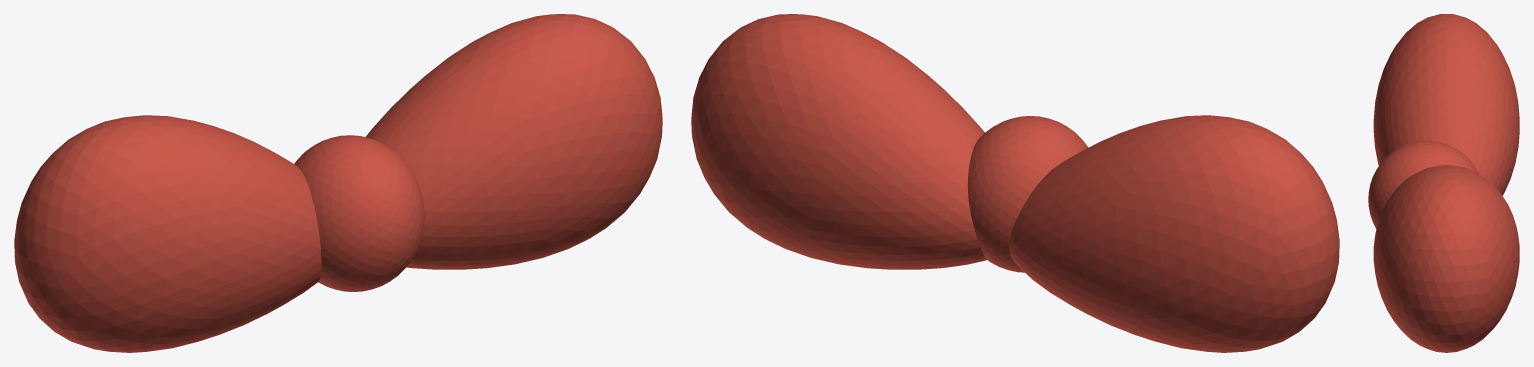
File: bow.glb
3 views of the same model, side by side, from view 1: azimuth 30°, elevation 25°; view 2: azimuth 150°, elevation 25°; view 3: azimuth 270°, elevation 25° (orthographic). The views are drawn at different scales.
Parts seen in each view (by area): view 1: geometry_0; view 2: geometry_0; view 3: geometry_0.
Part boxes in pixels (x1,y1,x2,y2): geometry_0: [14, 14, 662, 352]; geometry_0: [691, 14, 1339, 352]; geometry_0: [1368, 14, 1519, 352].
Size of the model in its own units: 0.516 by 0.1758 by 0.1422.
